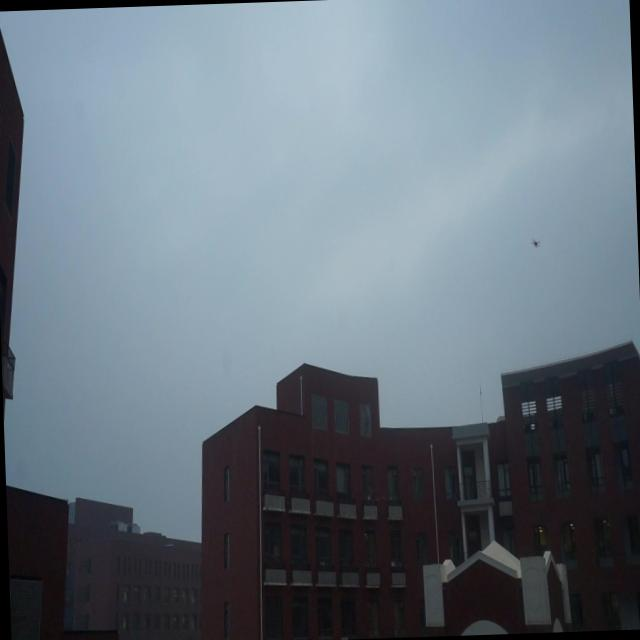drone: (528, 235, 542, 252)
